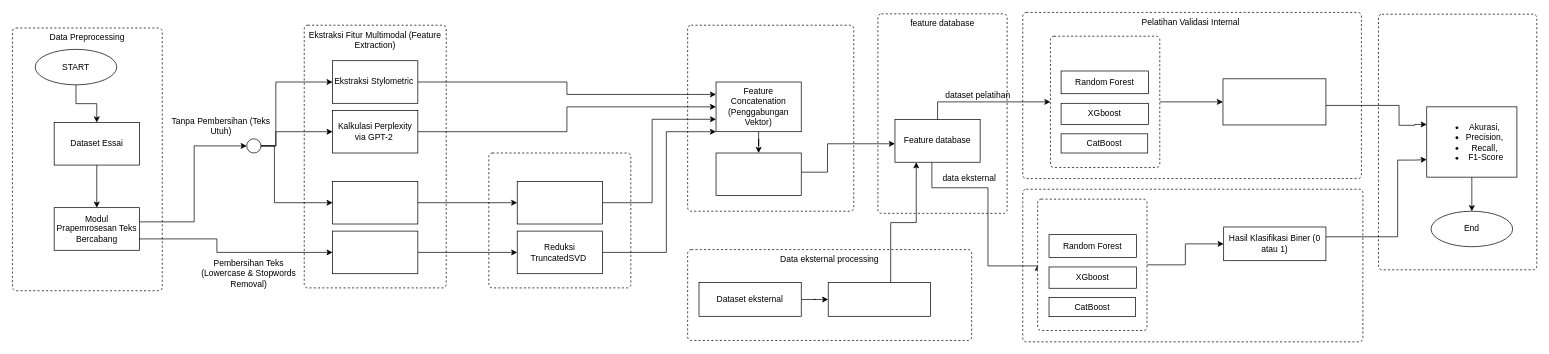
Image size: 1549x354. Some labels were removed from this diagram. Here are the shapes that lost their labels. From the top down, the box of each, then its label:
(687, 24, 854, 211): Fusi Fitur & Normalisasi (Feature Fusion & Scaling)
(1050, 36, 1160, 168): Stratified 5-Fold Cross-Validation
(1222, 78, 1326, 125): Hasil Klasifikasi : 0 Manusia , 1 AI
(1378, 13, 1537, 270): Evaluasi Metriks
(715, 152, 801, 196): Normalisasi Data (StandardScaler)
(332, 181, 418, 224): Ekstraksi Semantik via BERT
(517, 181, 602, 224): Reduksi PCA
(488, 152, 631, 288): Reduksi Dimensi (Dimensionality Reduction)
(332, 230, 418, 274): Ekstraksi TF-IDF Vectorizer
(1037, 198, 1147, 331): Prediksi dengan Model Terlatih
(1022, 189, 1363, 342): Pengujian Eksternal
(828, 282, 930, 316): Transformasi fitur
